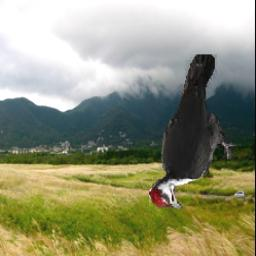Woodpecker: (149, 56, 237, 211)
